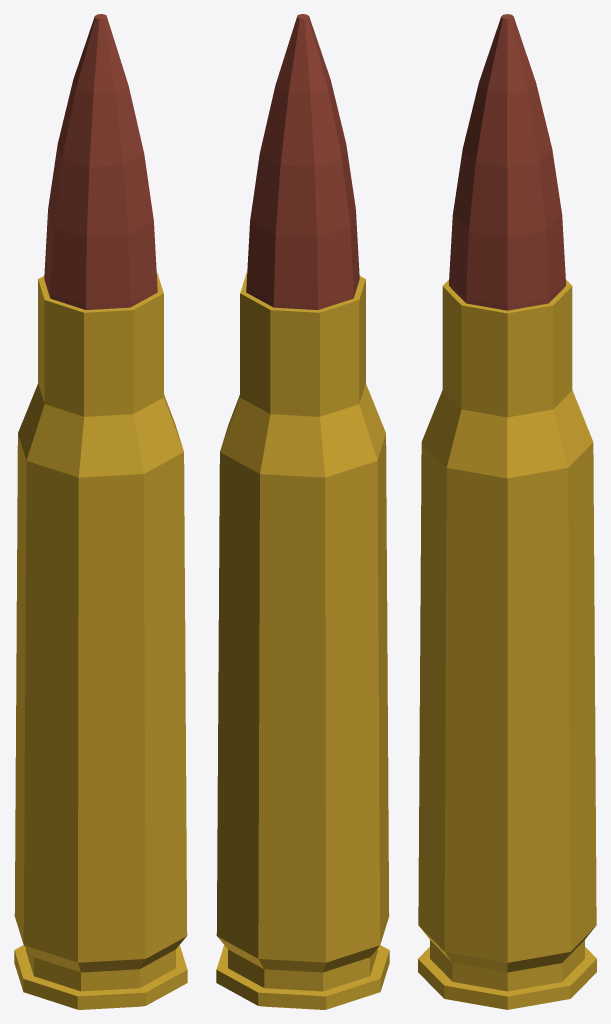
The picture shows the model from 3 angles, left to right: view 1: azimuth 30°, elevation 25°; view 2: azimuth 150°, elevation 25°; view 3: azimuth 270°, elevation 25°; orthographic projection.
Parts seen in each view (by area): view 1: 7.62x51; view 2: 7.62x51; view 3: 7.62x51.
Part boxes in pixels (left/top/right/bottom): 7.62x51: left=14, top=14, right=187, bottom=1009; 7.62x51: left=216, top=14, right=389, bottom=1009; 7.62x51: left=418, top=14, right=596, bottom=1009.
Size of the model in its own units: 0.012 by 0.0711 by 0.012.
1 material, 1 textured.
